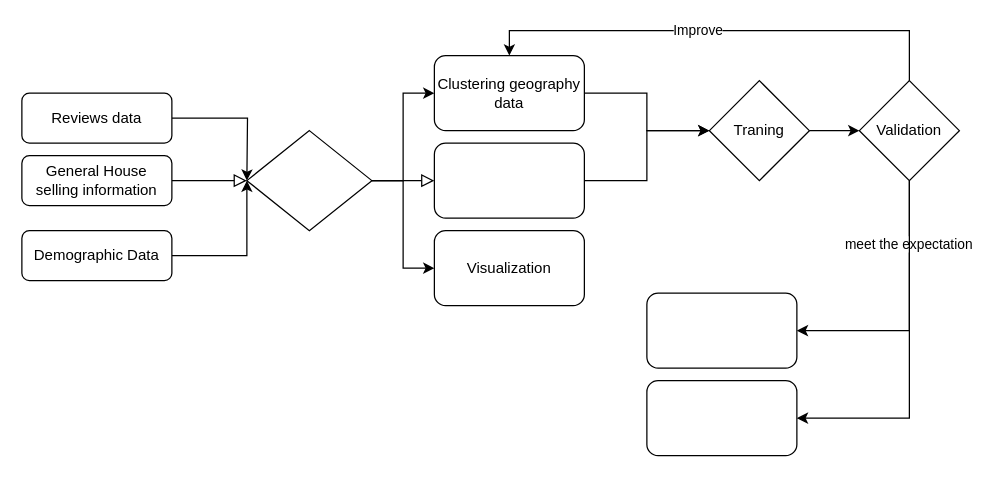
Some shapes in this 998 by 478 pixel diagram are drawn without their labels. The shapes that lost their labels are listed below. From the top down, each one's centre as x and y in pixels, then its label:
(x=309, y=180): SQL database
(x=508, y=180): Preprocessing
(x=721, y=330): Final Report
(x=721, y=417): Visualization the result
